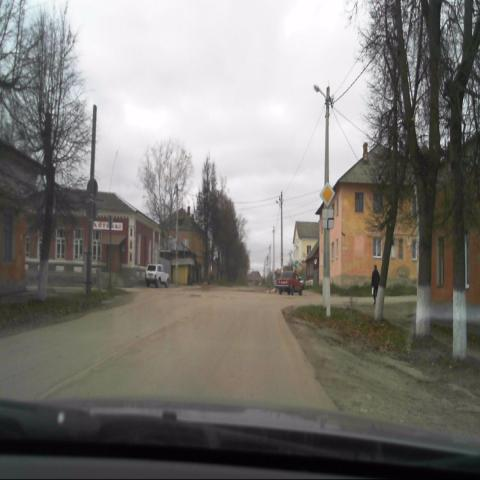2_1: (319, 181, 335, 207)
8_13: (322, 208, 334, 229)
